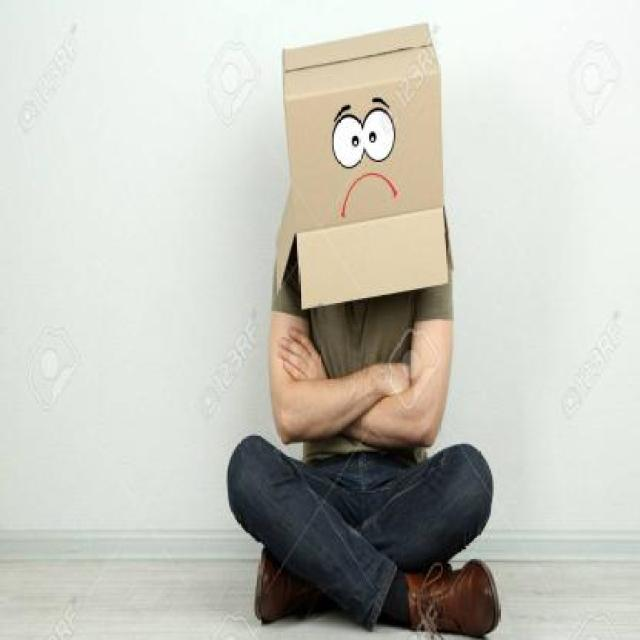box: (246, 20, 479, 333)
